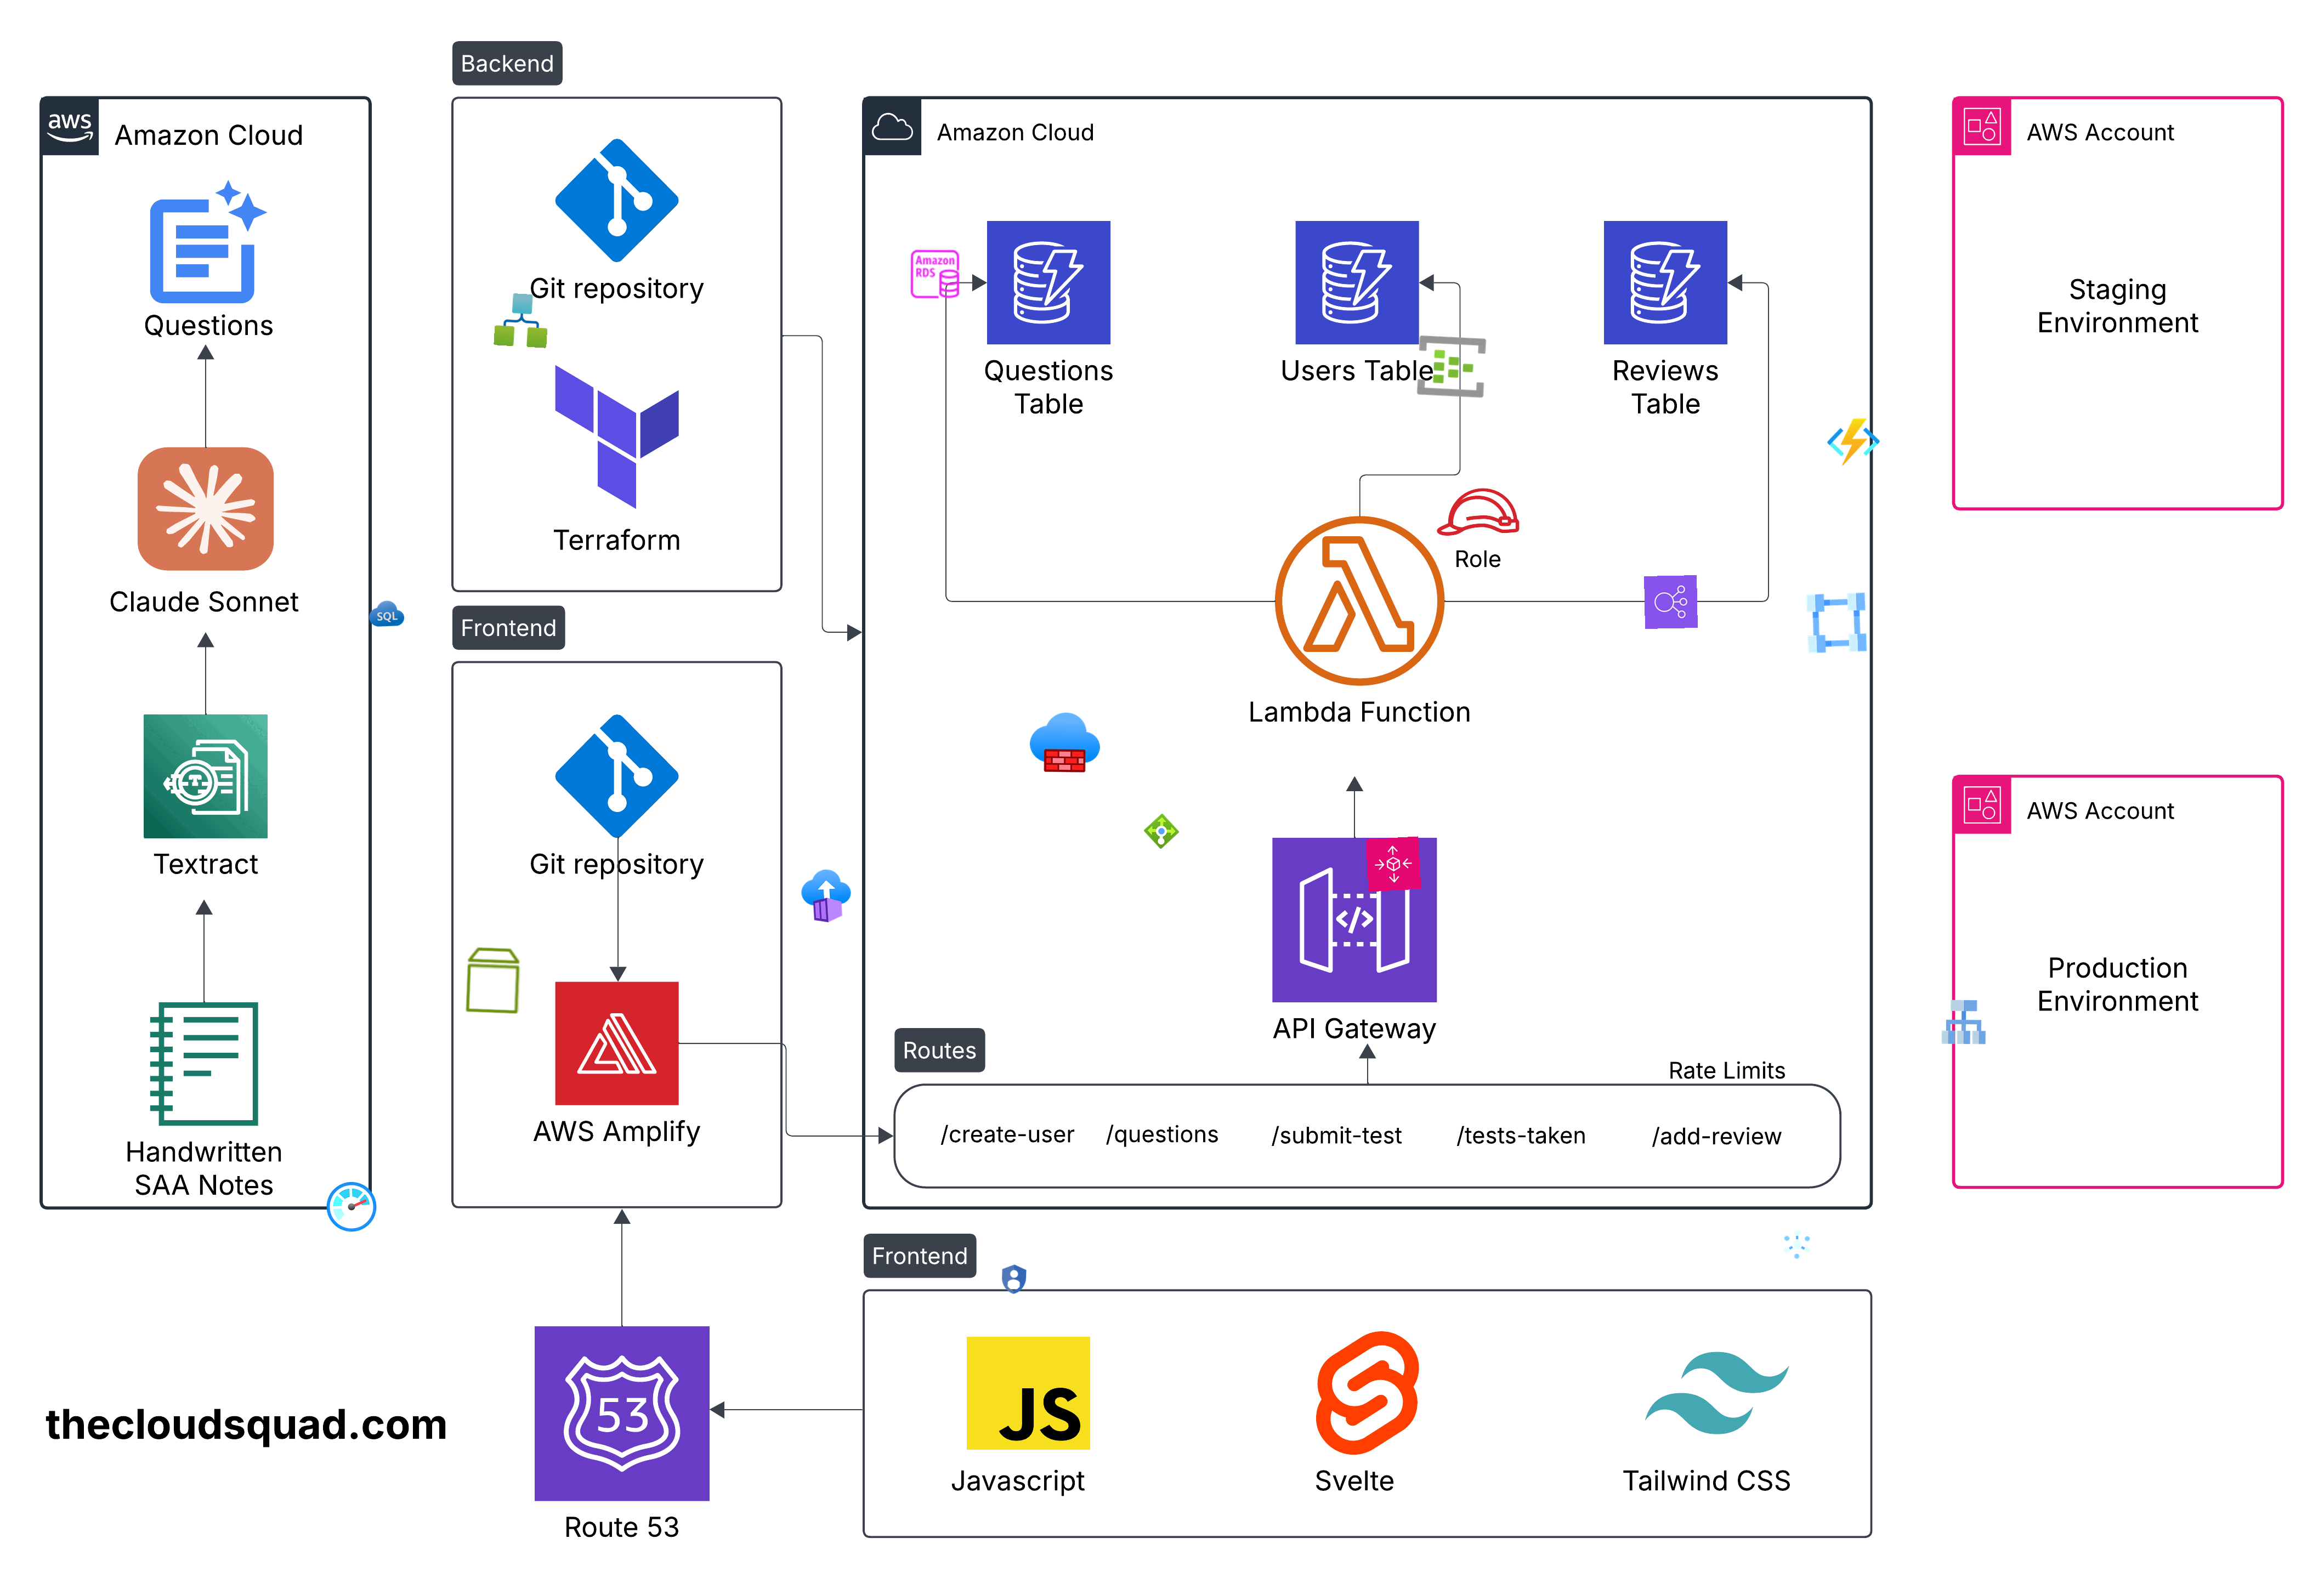aws_aurora_amazon_rds_instance: (908, 247, 961, 301)
aws_auto_scaling: (1366, 837, 1421, 893)
aws_elastic_block_store_volume: (456, 944, 530, 1018)
aws_elastic_load_balancing: (1644, 576, 1697, 629)
azure_container_instances: (798, 868, 854, 925)
azure_event_hubs: (1414, 329, 1489, 403)
azure_firewalls: (1030, 706, 1100, 778)
azure_function_apps: (1826, 416, 1880, 468)
azure_load_balancers: (1143, 812, 1180, 851)
azure_logic_apps: (493, 292, 549, 349)
azure_monitor: (324, 1178, 380, 1235)
azure_sql: (368, 595, 405, 632)
gcp_cloud_load_balancing: (1937, 995, 1991, 1050)
gcp_identity_and_access_management: (995, 1261, 1032, 1298)
gcp_pubsub: (1778, 1226, 1815, 1263)
gcp_virtual_private_cloud: (1799, 586, 1873, 660)
